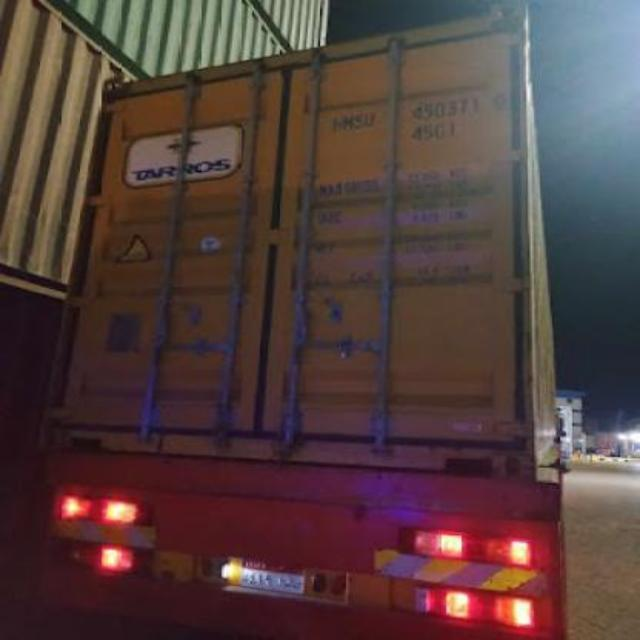0: (494, 89, 506, 115), (434, 94, 446, 118)
1: (470, 94, 482, 115)
3: (446, 98, 456, 119)
4: (410, 99, 422, 123)
5: (422, 98, 434, 120)
7: (454, 93, 468, 117)
H: (326, 112, 339, 132)
M: (340, 112, 352, 136)
S: (352, 110, 364, 130)
U: (362, 108, 376, 128)
